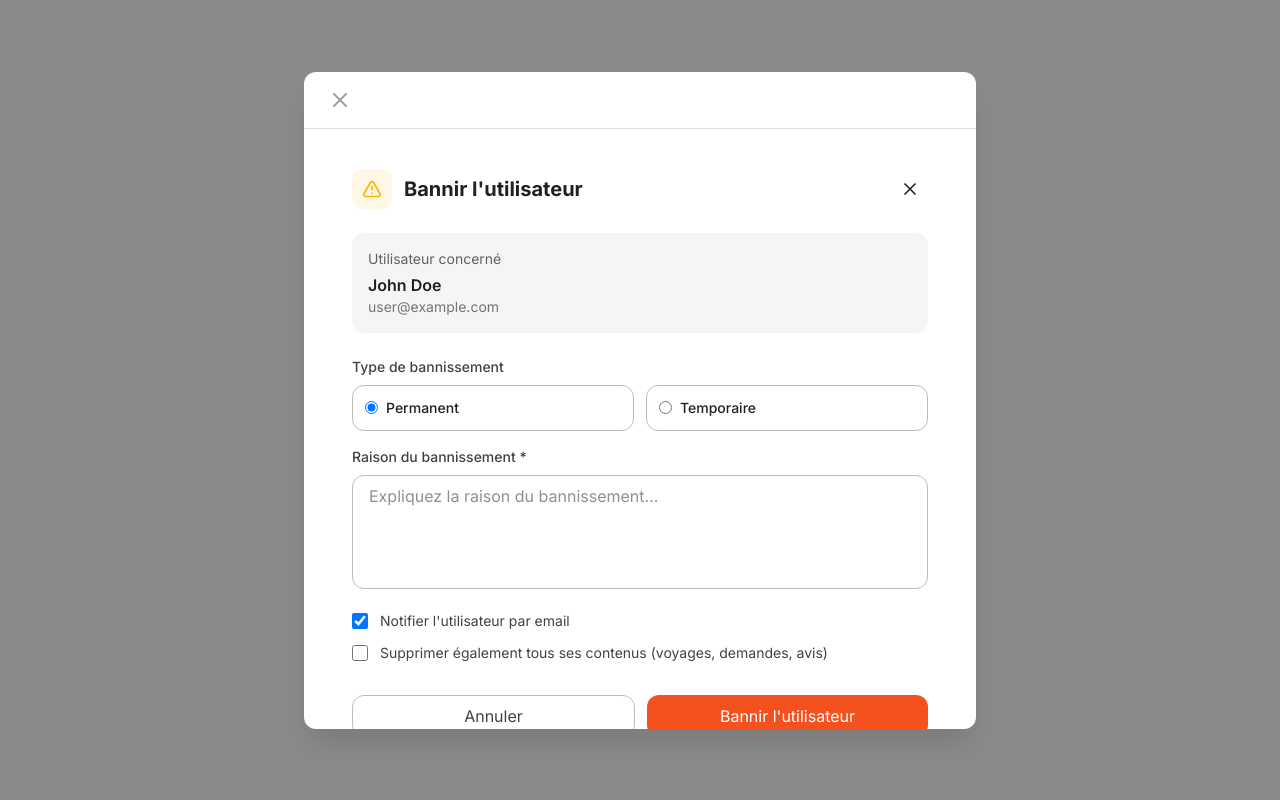
Test: BanUserModal - logique metier › bloque la soumission si la raison est trop courte
Type "court" into the text box with placeholder "Expliquez la raison du bannissement..." at (640, 532), box [352,474,928,588]
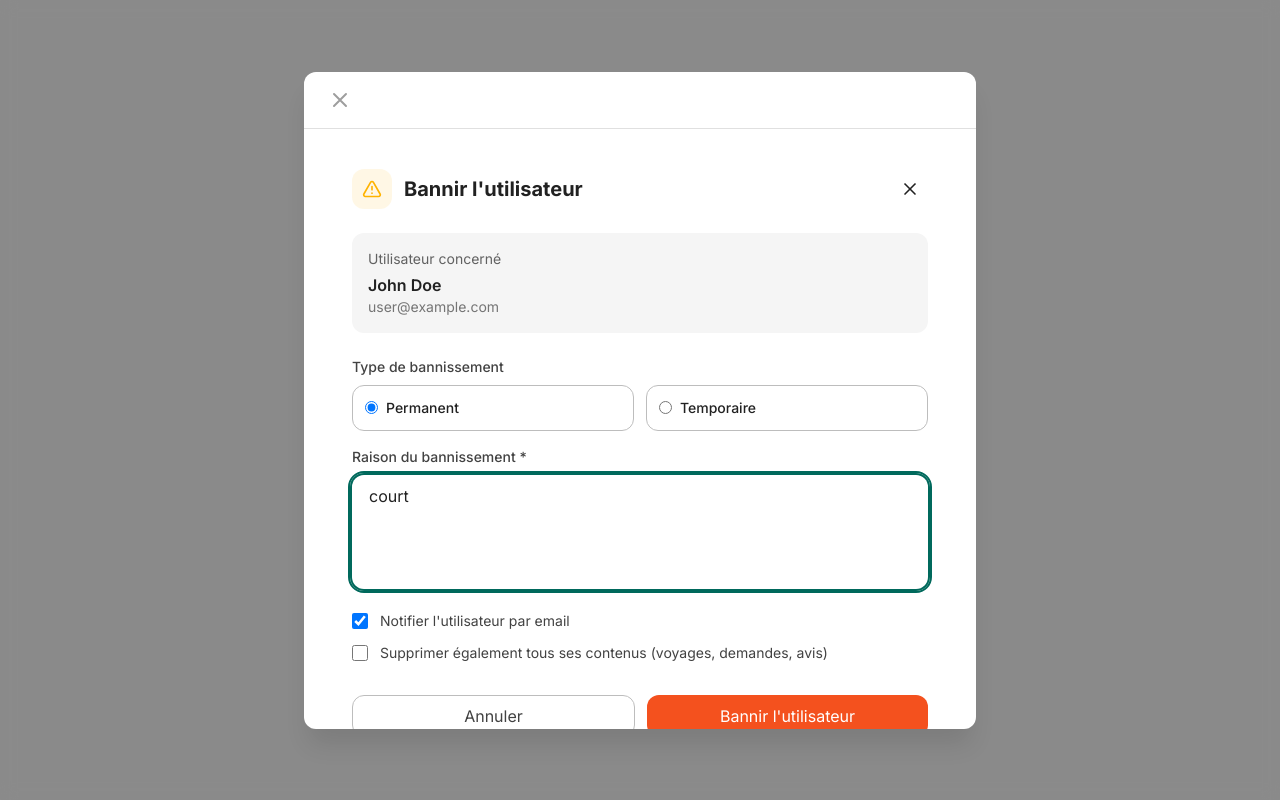
Click the button "Bannir l'utilisateur" at (788, 716), box [647,694,928,736]
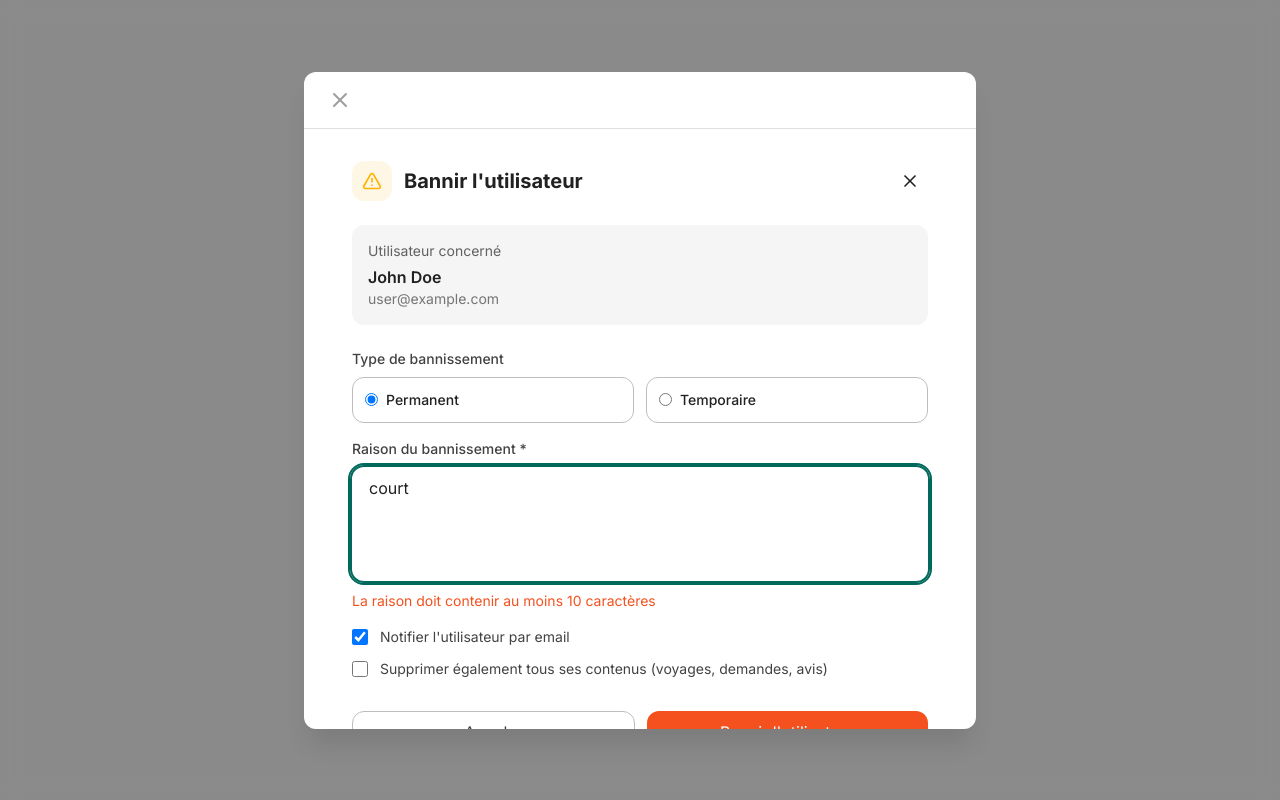
expect the text "La raison doit contenir au moins 10 caractères" is shown: met, box [352,592,656,608]
